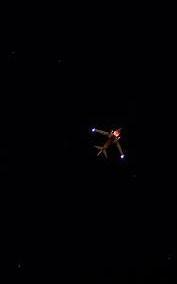Plane: (78, 108, 139, 180)
